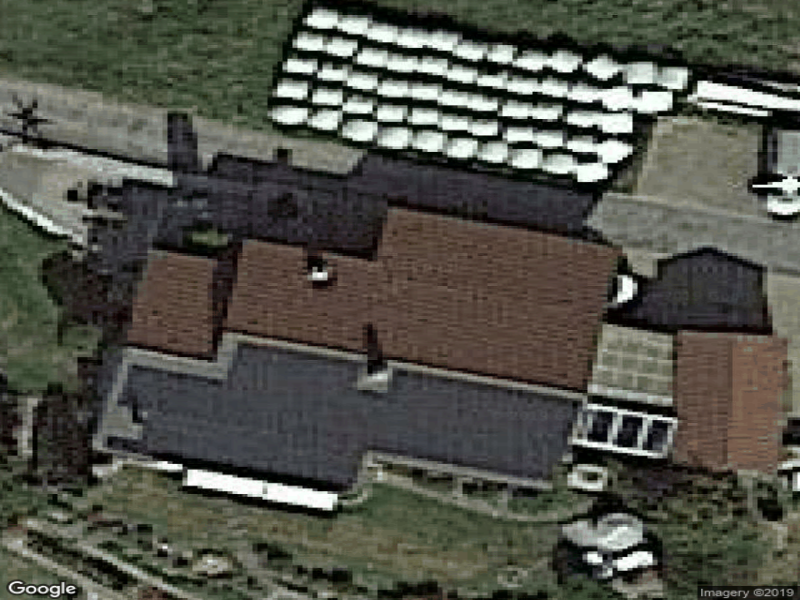pv: (118, 343, 582, 488)
